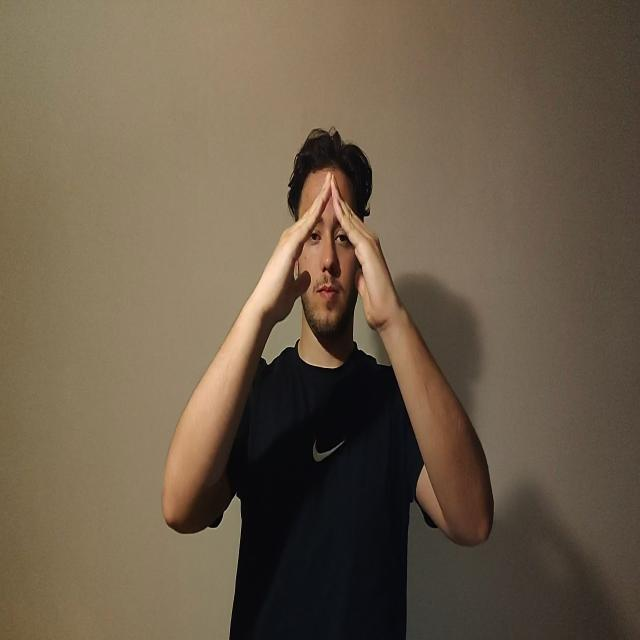house: (257, 177, 388, 329)
